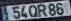4: (19, 4, 28, 18)
5: (11, 5, 20, 19)
6: (55, 2, 64, 15)
8: (47, 2, 56, 16)
Q: (27, 4, 38, 17)
R: (36, 3, 48, 17)
